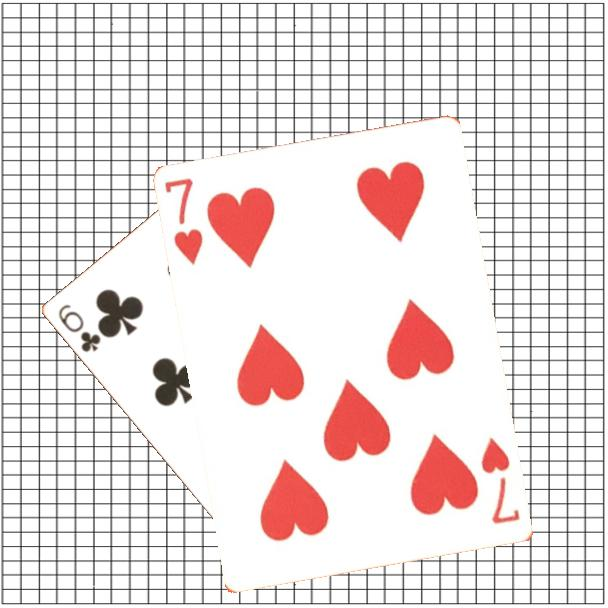c06: (54, 300, 103, 355)
h07: (161, 174, 207, 269), (478, 434, 524, 528)
